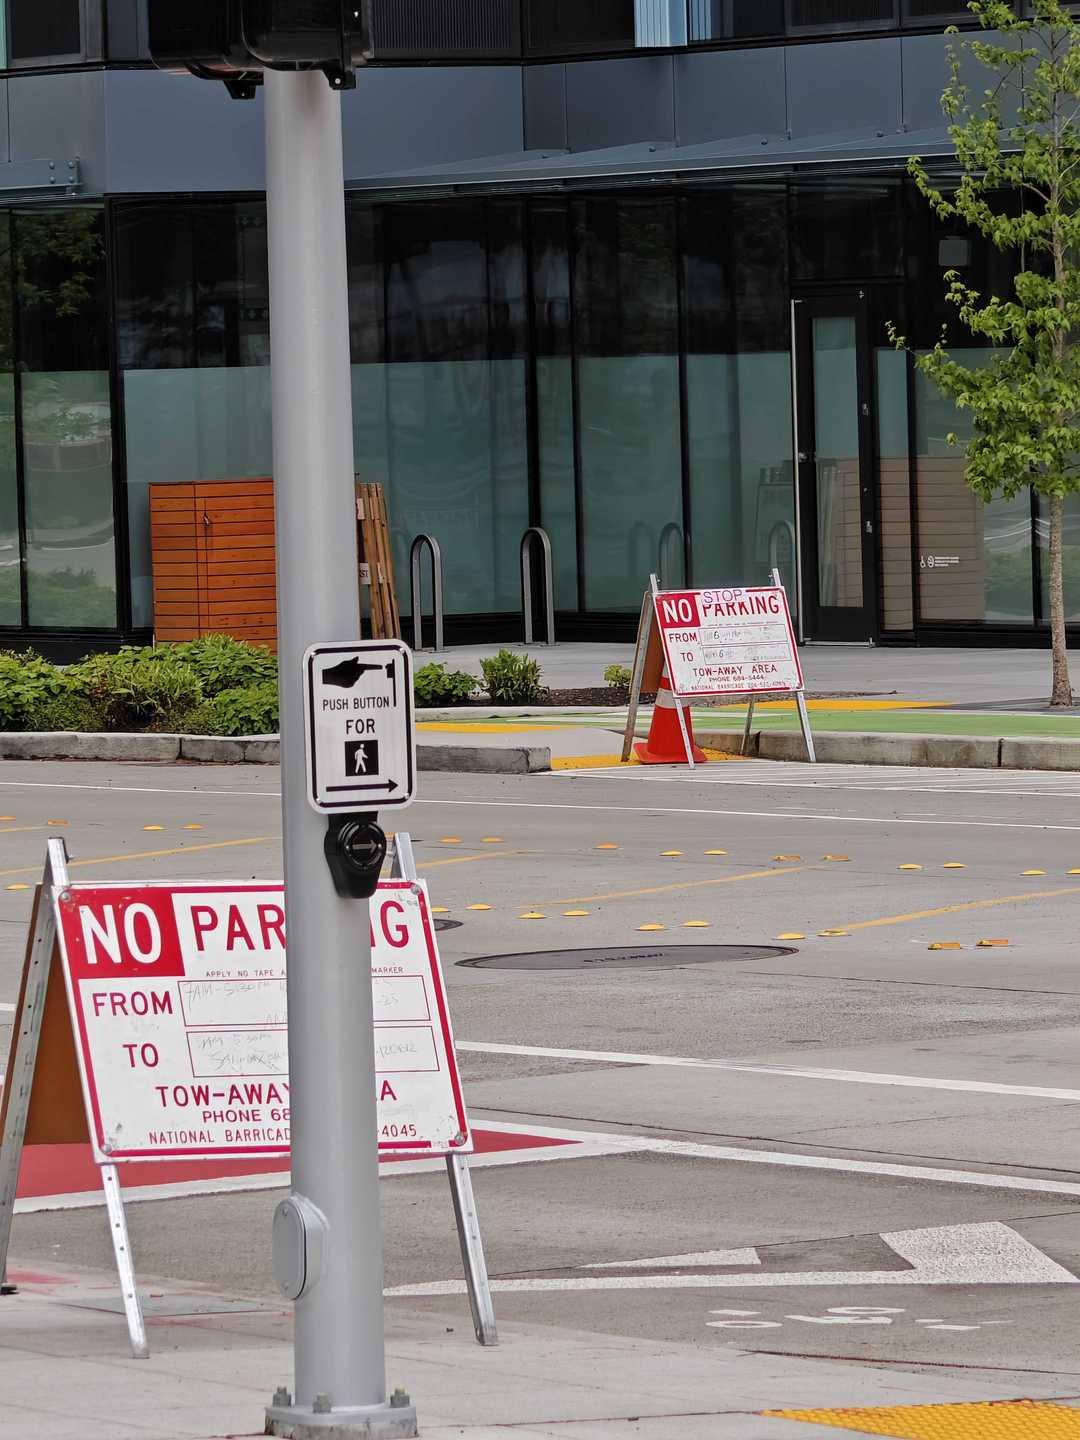ped_button: (301, 638, 415, 900)
